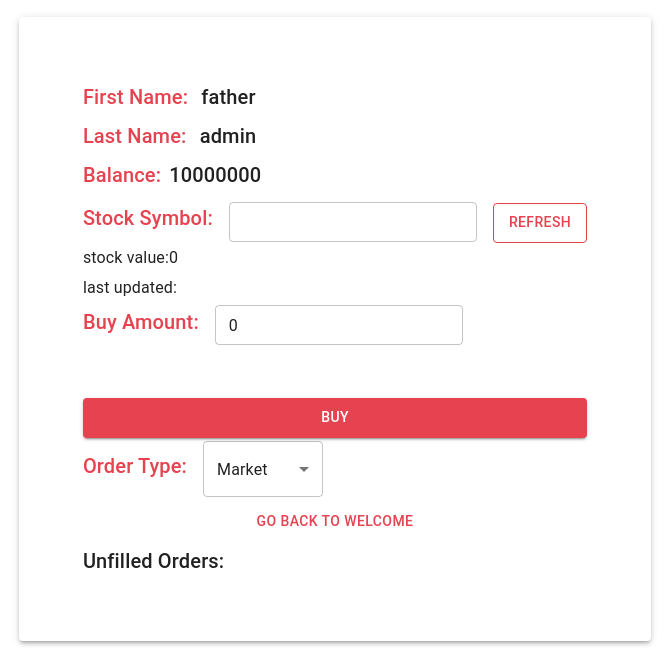
Scenario: Test Buy component › displays error message when stock symbol not entered, but the fresh button is hit
The width and height of the screenshot is (671, 663).
Click the button "Refresh" at (540, 222), box [493,202,587,242]
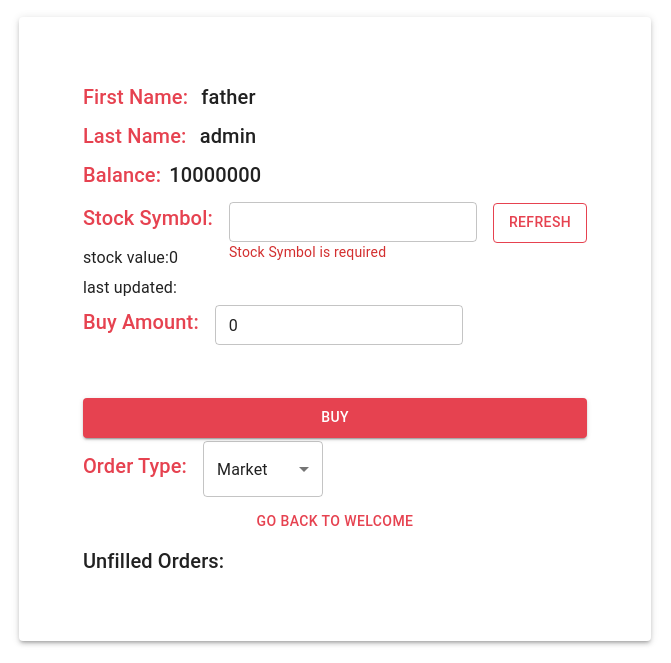
Now the text "Stock Symbol is required" is shown, box [229,244,386,260]
